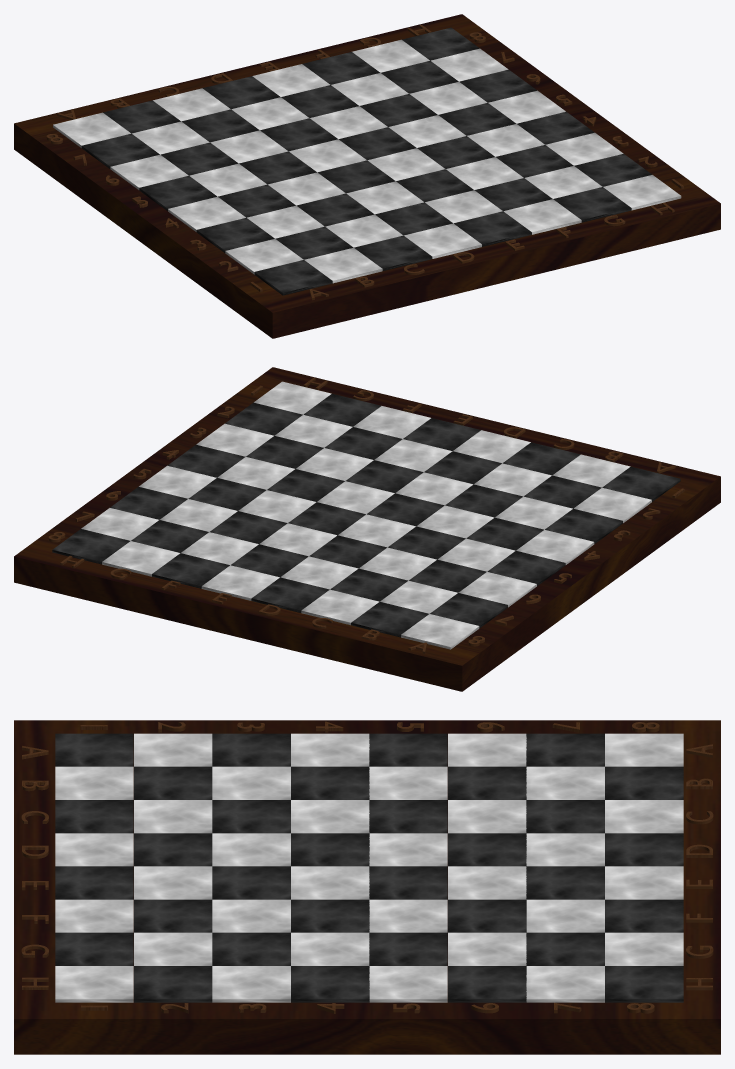
The model's file is chess_board.obj.
3 renders of one model, top to bottom at view 1: azimuth 30°, elevation 25°; view 2: azimuth 150°, elevation 25°; view 3: azimuth 270°, elevation 25°, orthographic. The views are drawn at different scales.
Parts seen in each view (by area): view 1: Chess_Board_Cube.065; view 2: Chess_Board_Cube.065; view 3: Chess_Board_Cube.065.
Boxes of the visible parts, left/top/right/bottom form: Chess_Board_Cube.065: left=14, top=14, right=720, bottom=338; Chess_Board_Cube.065: left=14, top=367, right=720, bottom=691; Chess_Board_Cube.065: left=14, top=720, right=720, bottom=1054.
Bounding box in the file's own units: 18 × 1.1 × 18.
3 materials, 3 textured.
